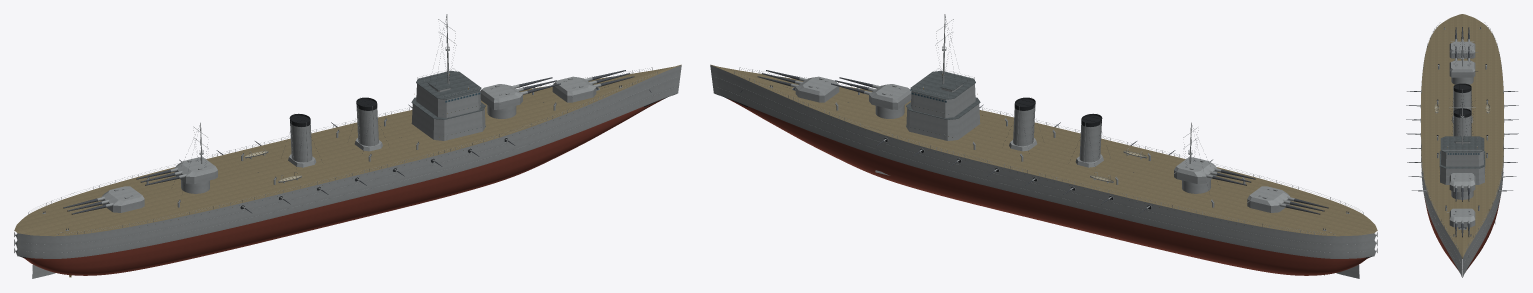
The model's file is south_dakota_1920.glb.
The picture shows the model from 3 angles, left to right: view 1: azimuth 30°, elevation 25°; view 2: azimuth 150°, elevation 25°; view 3: azimuth 270°, elevation 25°; orthographic projection. The views are drawn at different scales.
Visible parts, largest first — view 1: South Dakota class (1920, completed); view 2: South Dakota class (1920, completed); view 3: South Dakota class (1920, completed).
Part boxes in pixels (box(x1,y1,x2,y2)): South Dakota class (1920, completed): box(14, 14, 681, 278); South Dakota class (1920, completed): box(710, 14, 1377, 278); South Dakota class (1920, completed): box(1406, 14, 1518, 277).
Size of the model in its own units: 232 by 55.2 by 44.48.
9 materials, 8 textured.
